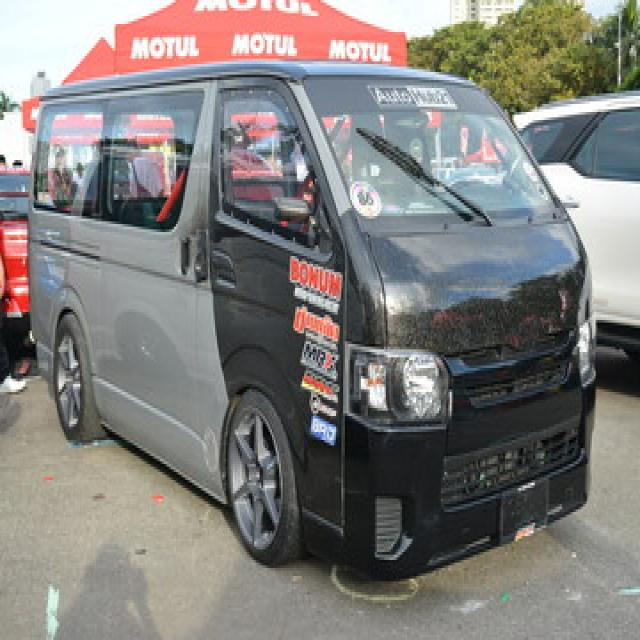van: (32, 61, 594, 576), (516, 91, 638, 352)
